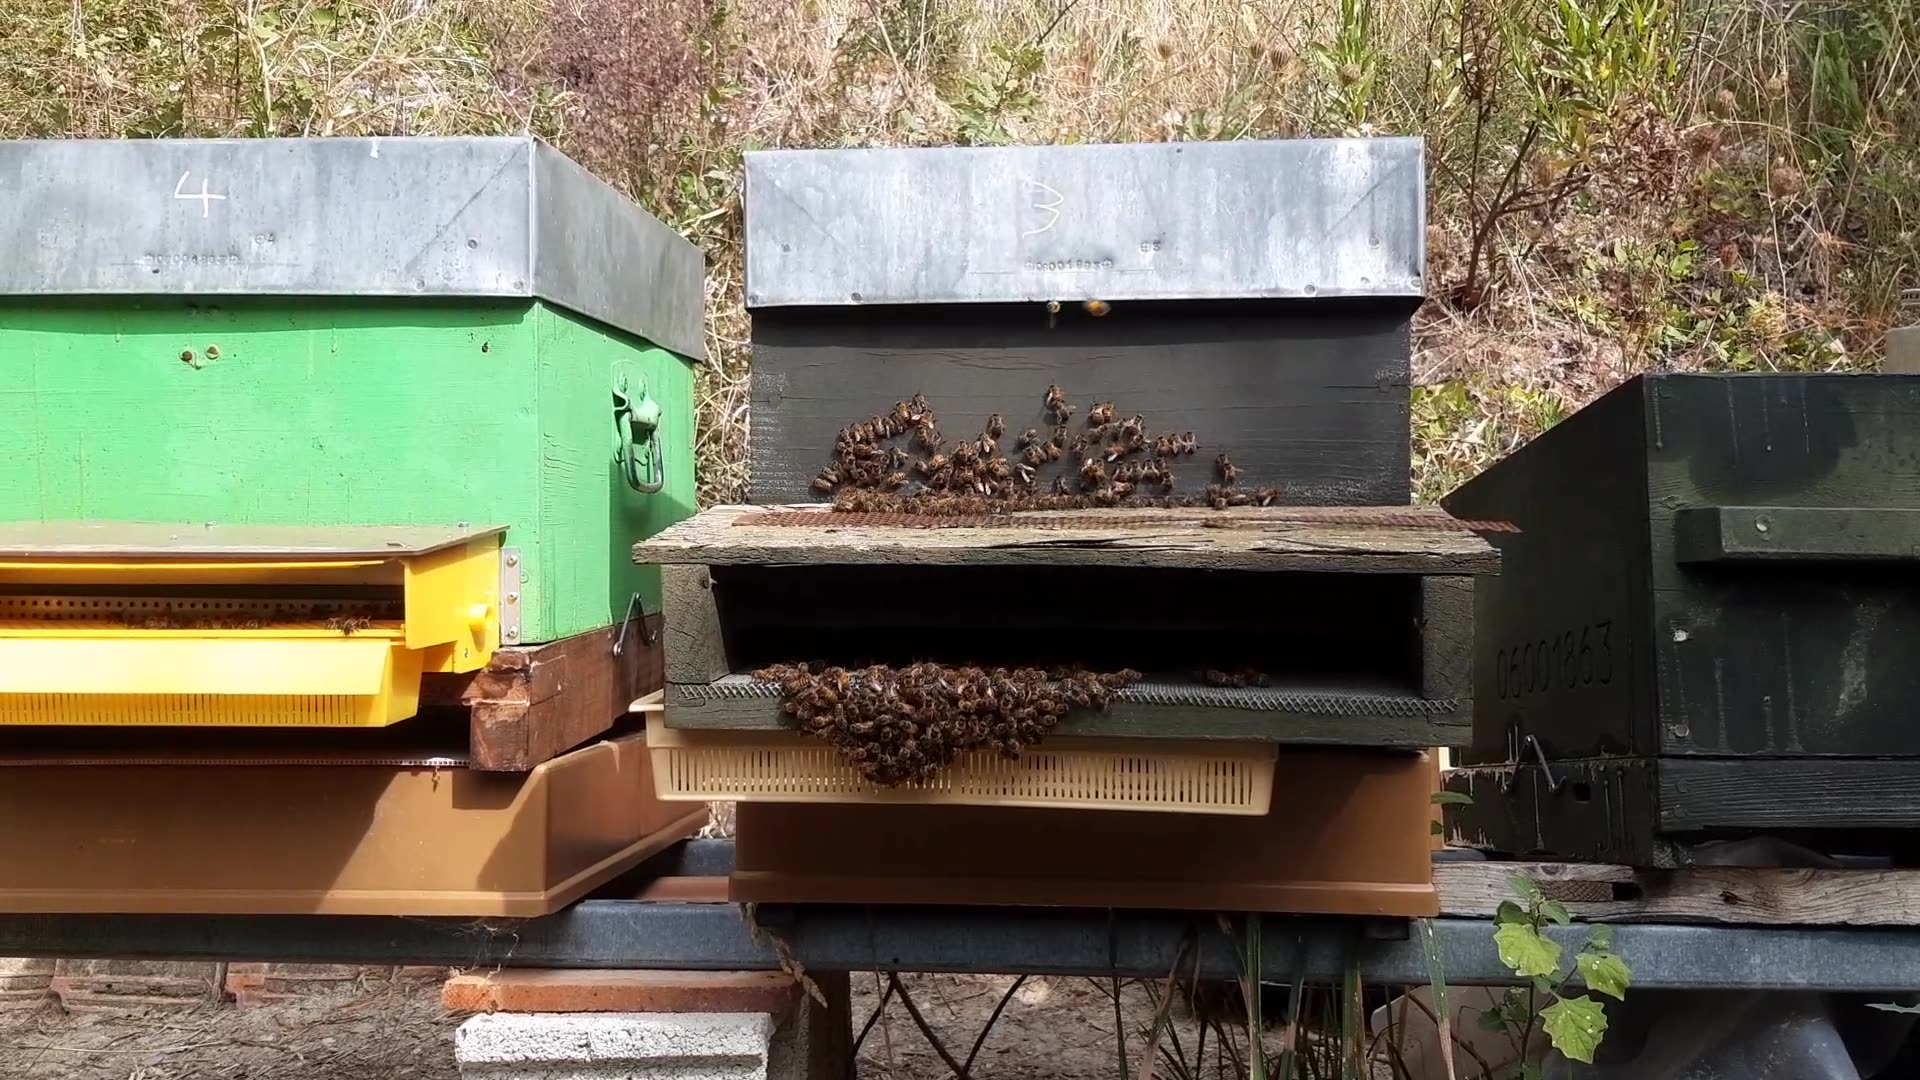bee: (790, 673, 887, 746), (862, 721, 942, 799), (945, 455, 1029, 514), (855, 411, 938, 464), (1153, 456, 1230, 512), (1025, 462, 1102, 516), (829, 469, 915, 517), (930, 411, 997, 463), (1112, 433, 1178, 477), (1044, 291, 1102, 342), (1038, 407, 1097, 455)
